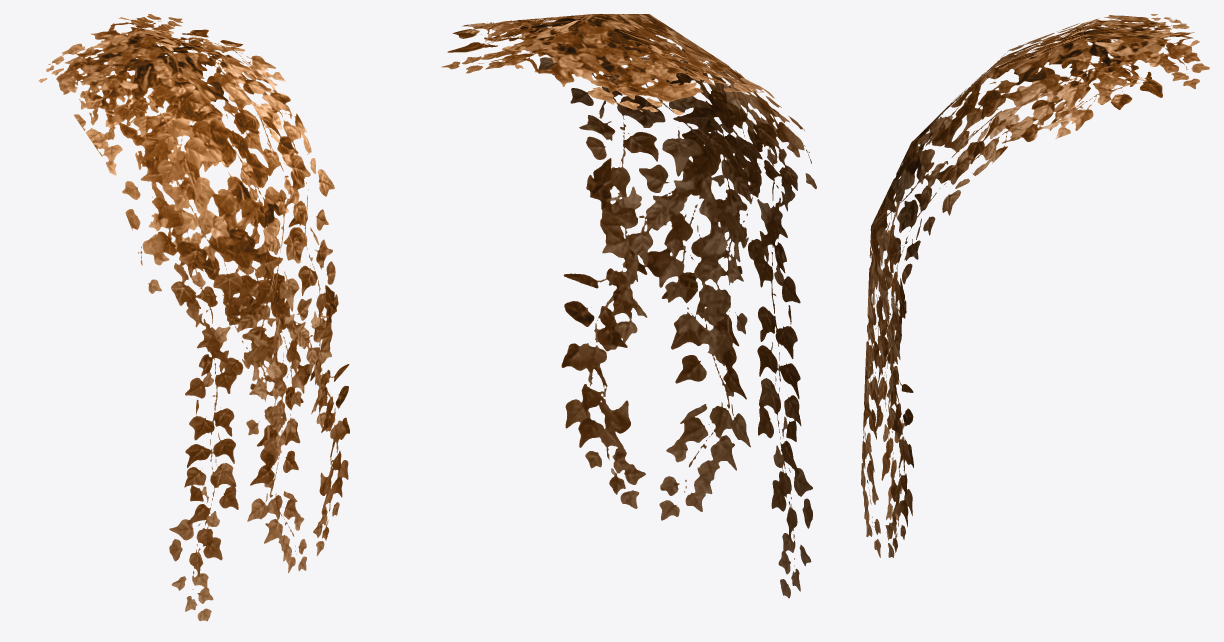
The model's file is Vines.fbx.
3 renders of one model, left to right at view 1: azimuth 30°, elevation 25°; view 2: azimuth 150°, elevation 25°; view 3: azimuth 270°, elevation 25°, orthographic. The views are drawn at different scales.
Parts seen in each view (by area): view 1: pPlane1; view 2: pPlane1; view 3: pPlane1.
Part boxes in pixels (x1=…): pPlane1: x1=38, y1=14, x2=349, y2=621; pPlane1: x1=441, y1=14, x2=816, y2=598; pPlane1: x1=861, y1=14, x2=1209, y2=557.
Bounding box in the file's own units: 1333 × 3110 × 1853.
